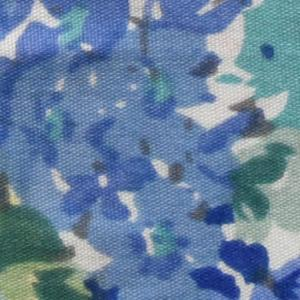Stain: (1, 171, 104, 300)
